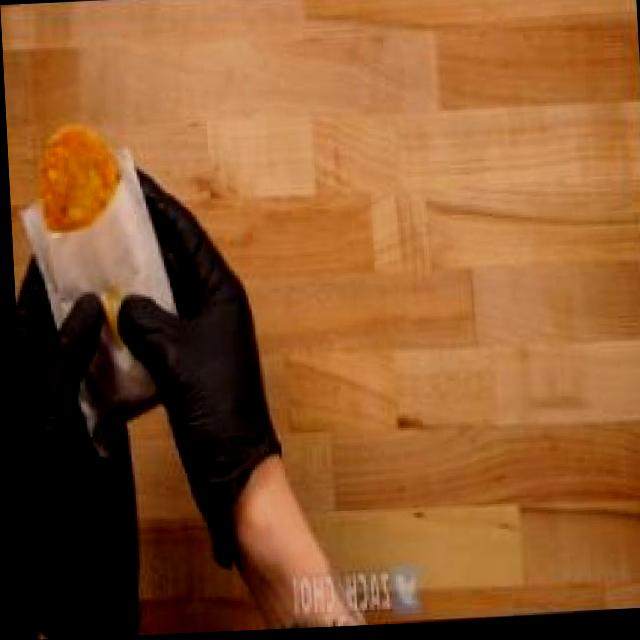Hashbrown: (29, 96, 136, 262)
